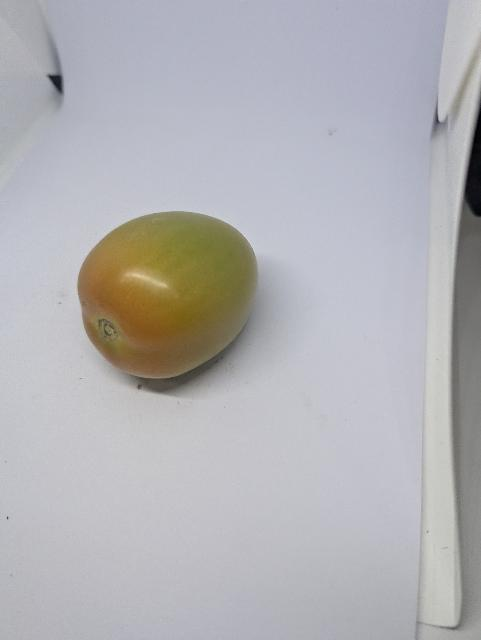breaker: (78, 212, 258, 378)
